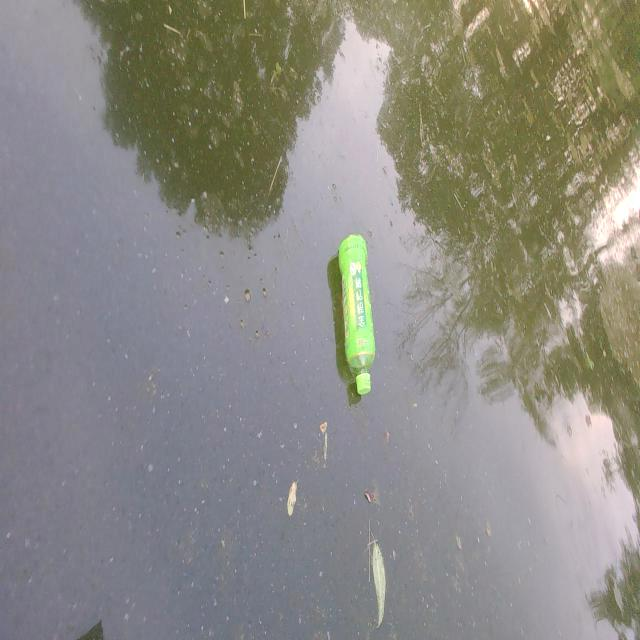bottle: (320, 229, 388, 399)
